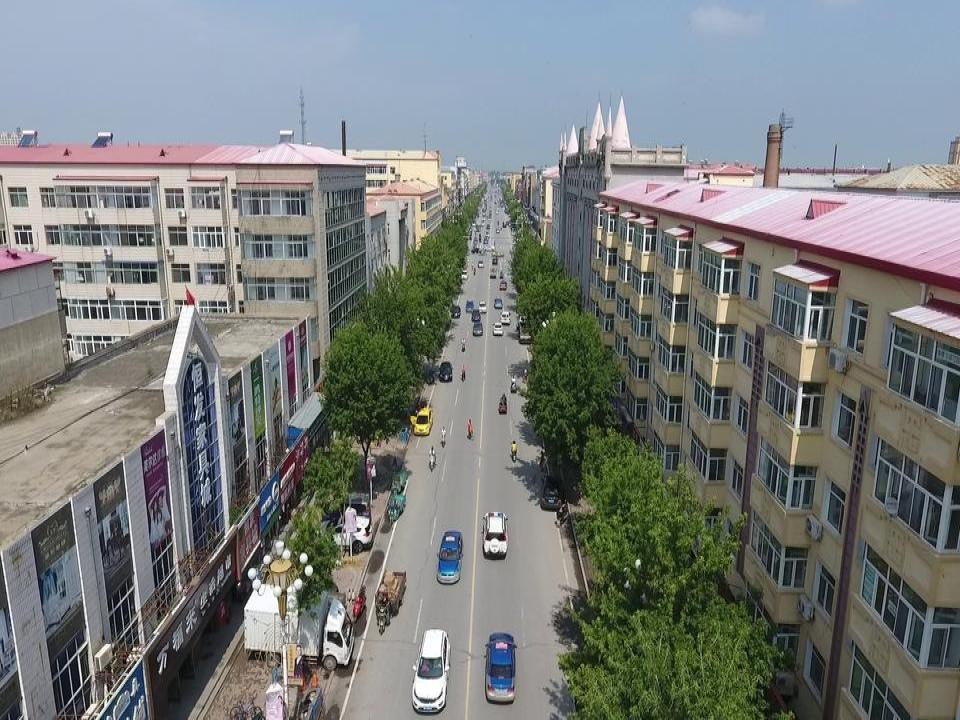bus: (474, 223, 480, 233)
car: (412, 627, 448, 712), (316, 516, 373, 552), (487, 633, 515, 703), (439, 529, 462, 583), (483, 512, 508, 556), (541, 475, 563, 508), (414, 404, 431, 435), (517, 313, 533, 344), (439, 360, 453, 383), (500, 309, 510, 324), (473, 321, 483, 336), (492, 322, 502, 334), (451, 306, 460, 318), (471, 310, 480, 322), (466, 299, 474, 312), (478, 300, 486, 313), (494, 297, 503, 308), (482, 245, 495, 252), (470, 247, 483, 253), (492, 251, 504, 257), (498, 280, 506, 289), (460, 270, 468, 278), (477, 260, 484, 268), (491, 258, 497, 266), (483, 237, 488, 244), (501, 220, 506, 227), (479, 221, 484, 227), (495, 228, 500, 233), (473, 239, 477, 245), (488, 218, 492, 222), (481, 215, 484, 220), (495, 210, 497, 214), (496, 207, 498, 210)
truck: (247, 582, 354, 670), (489, 267, 496, 277)
van: (321, 493, 370, 523)
